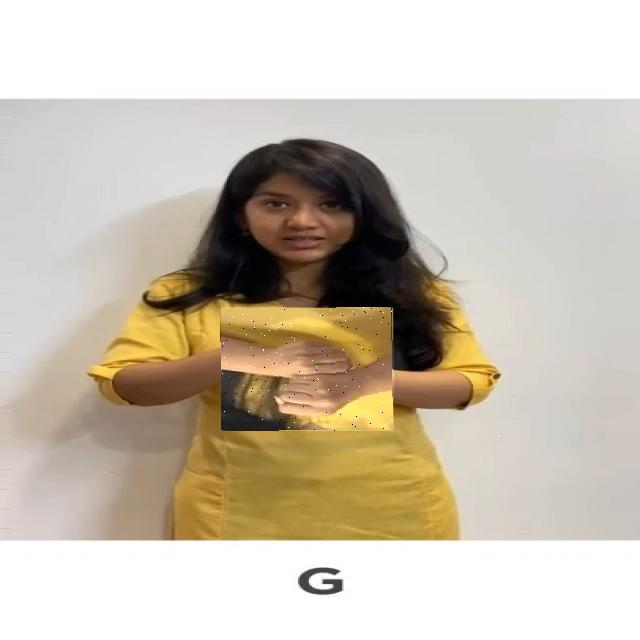G: (221, 307, 394, 431)
